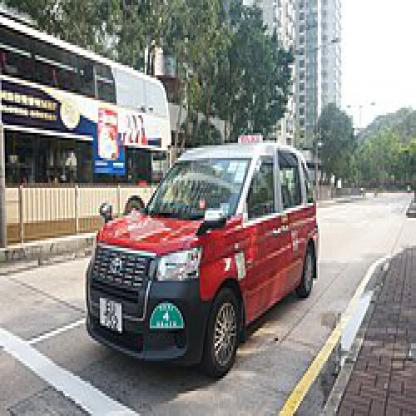taxi: (84, 134, 324, 382)
